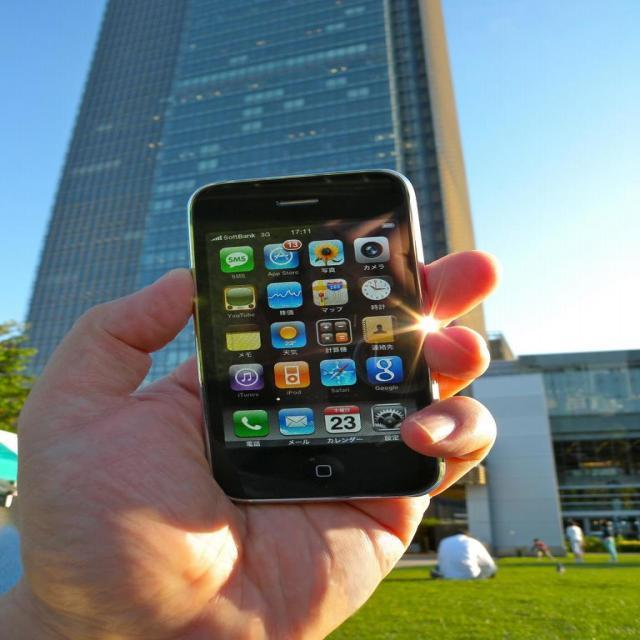Phone: (188, 166, 449, 504)
